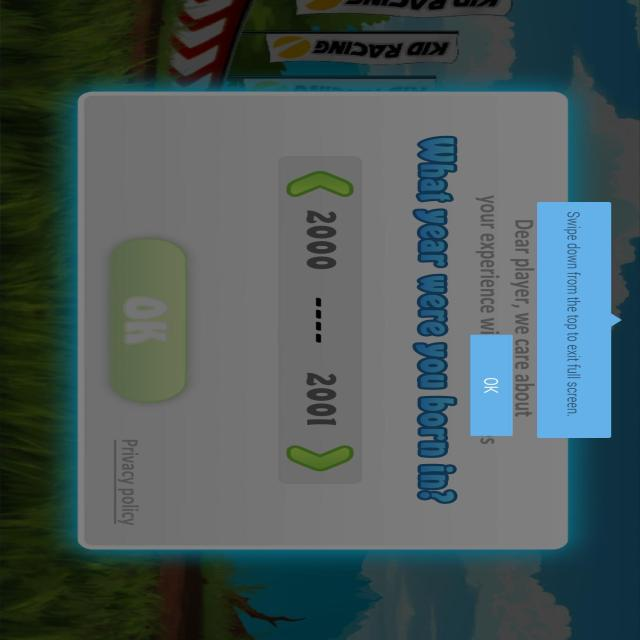button: (107, 238, 185, 402), (472, 336, 512, 436), (279, 165, 360, 202), (282, 439, 357, 478)
image: (3, 0, 640, 640)
link: (112, 436, 147, 528)
text: (411, 131, 462, 506), (468, 189, 538, 450), (560, 207, 586, 420)
